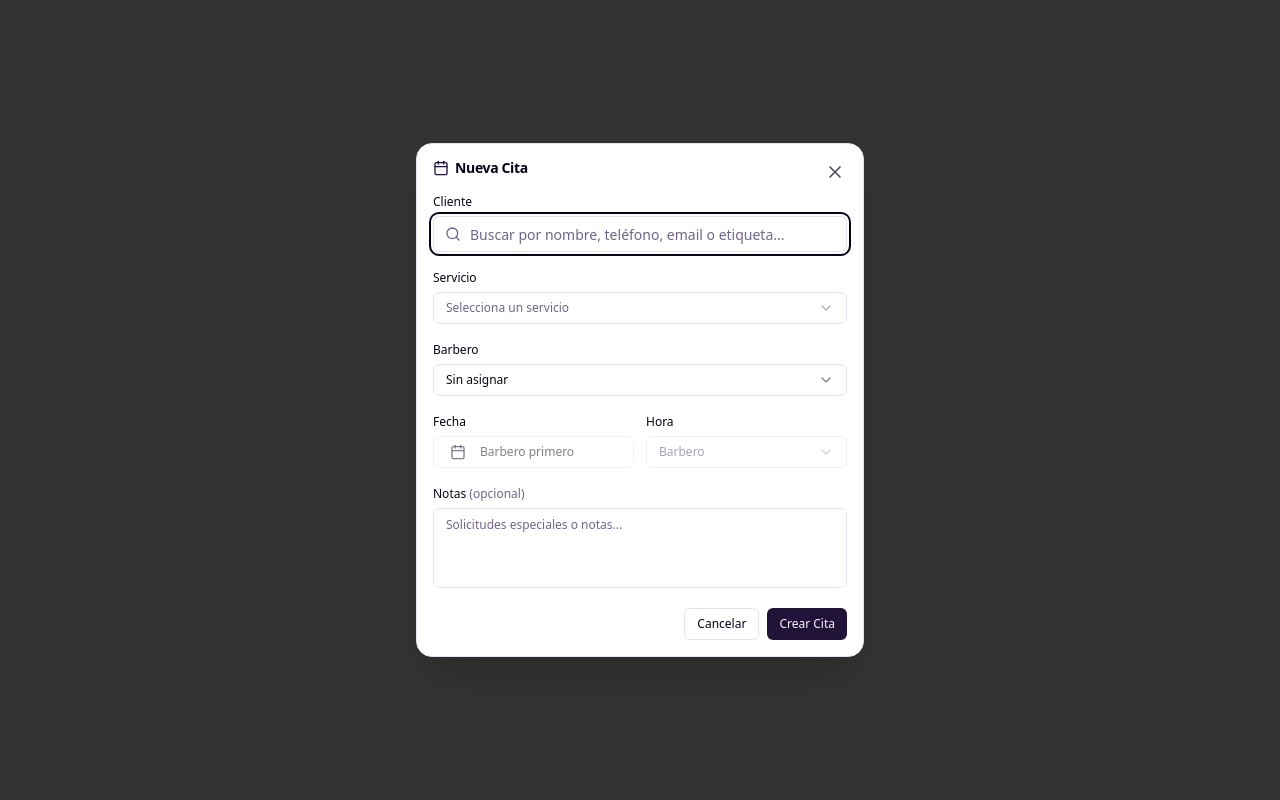
Test: BookingModal client assignment (create) › shows the empty state when nothing matches
The image size is (1280, 800).
In the field with placeholder "Buscar por nombre, teléfono, email o etiqueta...": (640, 234) [433,216,847,252], type "zzz"
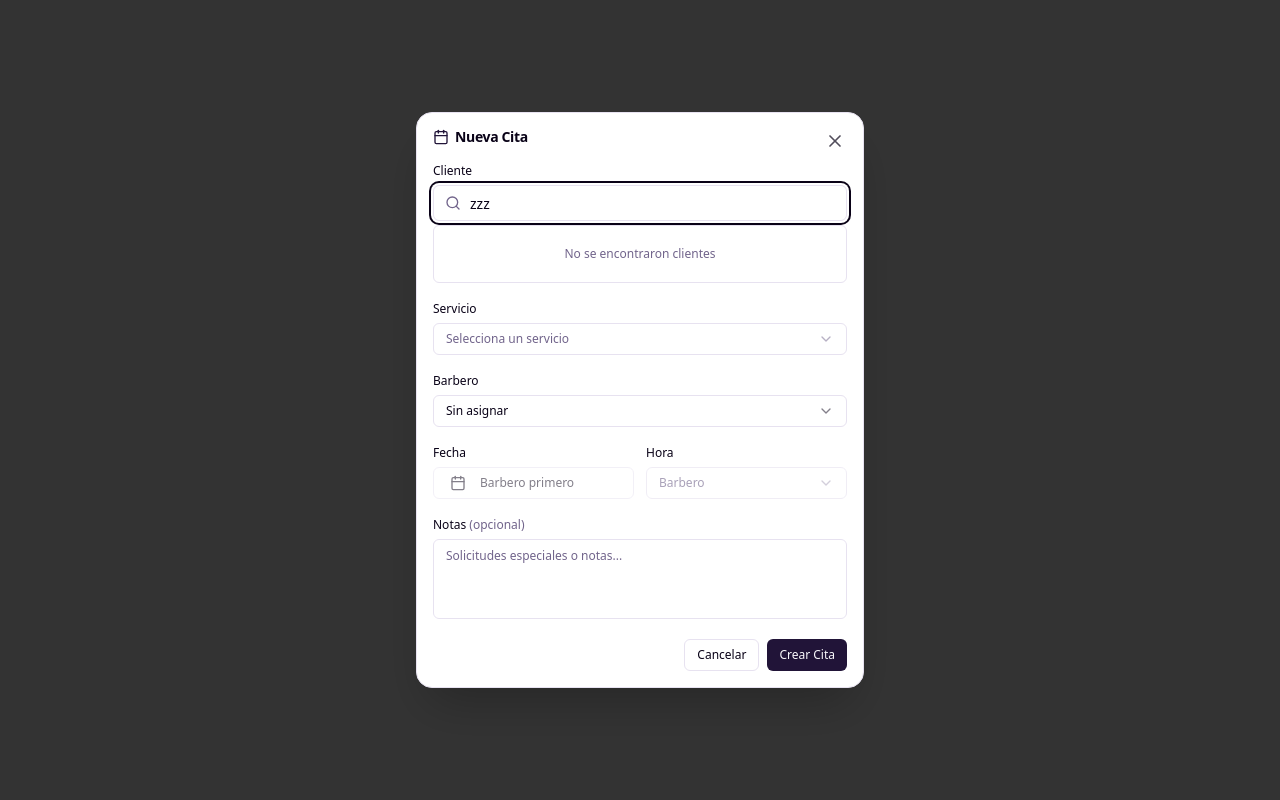
Now the text "No se encontraron clientes" is shown, box [564,245,716,262]
